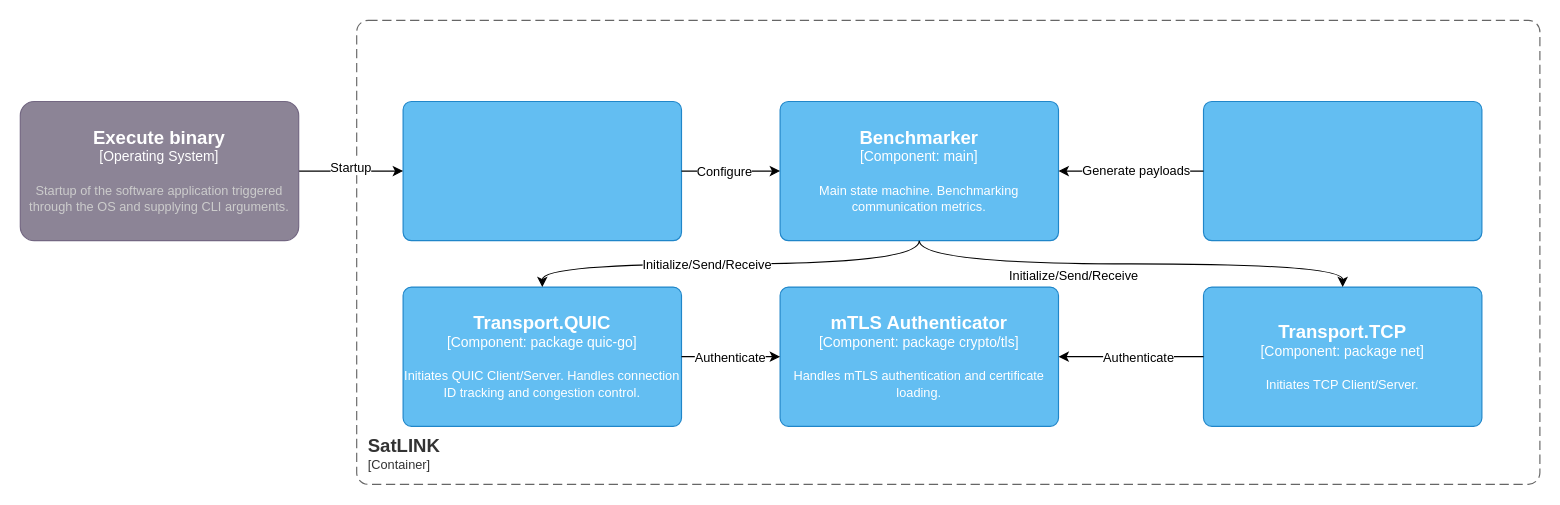
Image size: 1560x505. Some labels were removed from this diagram. The box of each missing label's shape, as (x1, y1, x2, y2) in pixels:
CLI Parser [Component: package flags] Parses CLI arguments: (402, 100, 682, 241)
Protocol Simulator [Component: simulator] Simulates device generated data.: (1202, 100, 1482, 241)
